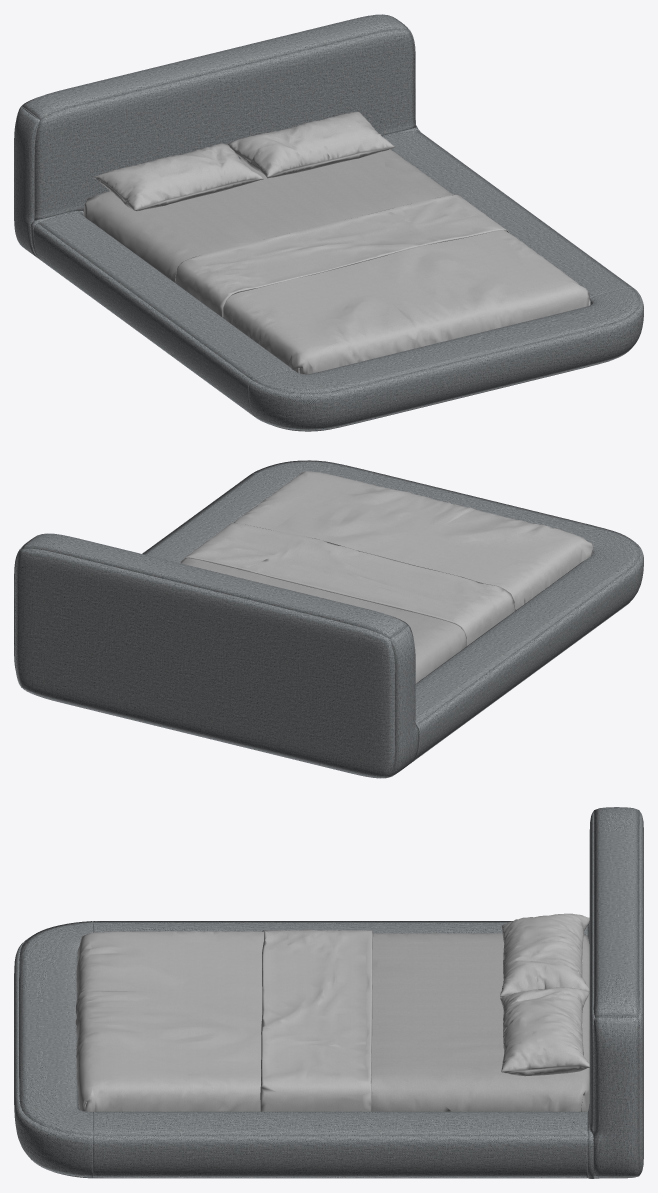
The model's file is bed_floss.glb.
3 views of the same model, one above another, from view 1: azimuth 30°, elevation 25°; view 2: azimuth 150°, elevation 25°; view 3: azimuth 270°, elevation 25° (orthographic). The views are drawn at different scales.
Parts seen in each view (by area): view 1: bed, blanket, mattres, pillow; view 2: bed, blanket, mattres; view 3: bed, blanket, mattres, pillow.
Boxes of the visible parts, bbox=[...] form: bed: bbox=[14, 14, 643, 431]; blanket: bbox=[175, 195, 590, 374]; mattres: bbox=[83, 149, 453, 282]; pillow: bbox=[94, 112, 394, 211]; bed: bbox=[14, 460, 643, 778]; blanket: bbox=[180, 471, 593, 646]; mattres: bbox=[181, 558, 466, 683]; bed: bbox=[14, 807, 643, 1178]; blanket: bbox=[75, 930, 373, 1111]; mattres: bbox=[371, 933, 589, 1111]; pillow: bbox=[500, 913, 589, 1076].
Bounding box in the file's own units: 2.09 × 0.7997 × 2.54.
5 materials, 5 textured.
